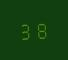eight: (34, 19, 48, 39)
three: (19, 20, 33, 40)
